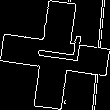L_W: (28, 36, 82, 74)
